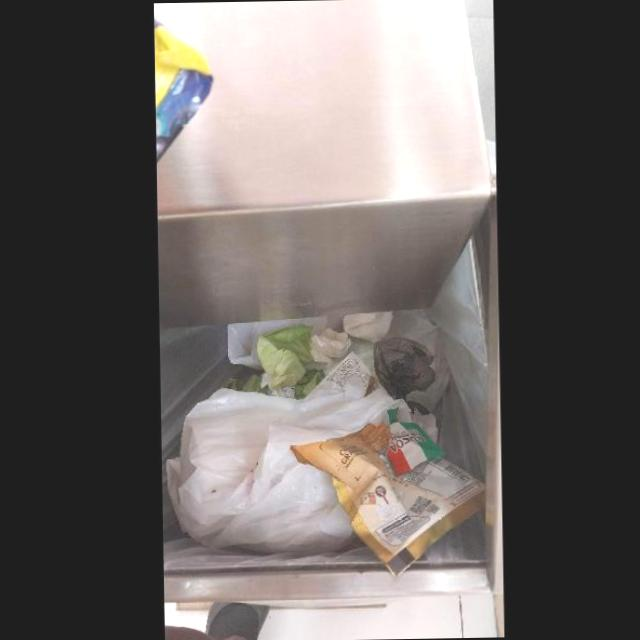bao_bi_thuc_pham: (289, 407, 485, 577)
giay: (341, 311, 394, 345), (310, 327, 352, 368)
tui_ni_long: (165, 382, 414, 560), (372, 336, 436, 415)
vo_rau_cu: (256, 324, 325, 399), (226, 374, 272, 395)
